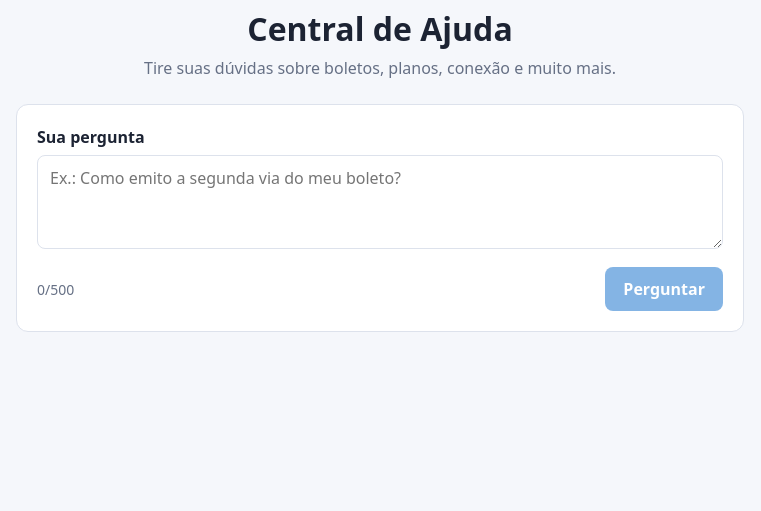
AskPage › marca a resposta simulada (modo de teste)
This screenshot has width=761, height=511.
Type "segunda via do boleto" into the text box labelled "Sua pergunta" at (380, 202), box [37,155,723,249]
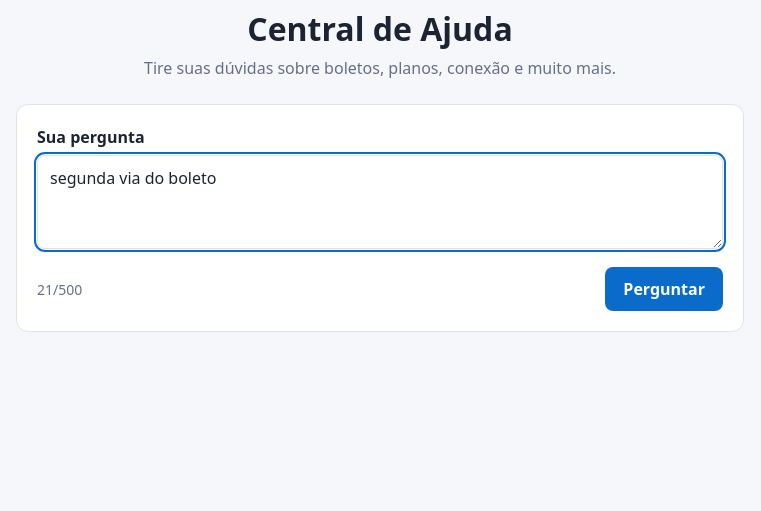
Click the button "Perguntar" at (664, 289), box [605,267,723,311]
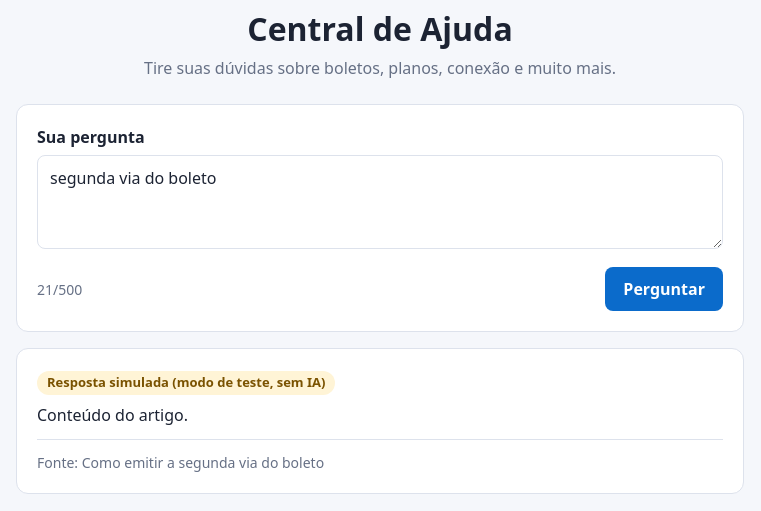
Expected: the text "Resposta simulada (modo de teste, sem IA)" is shown, [37,371,335,395]
